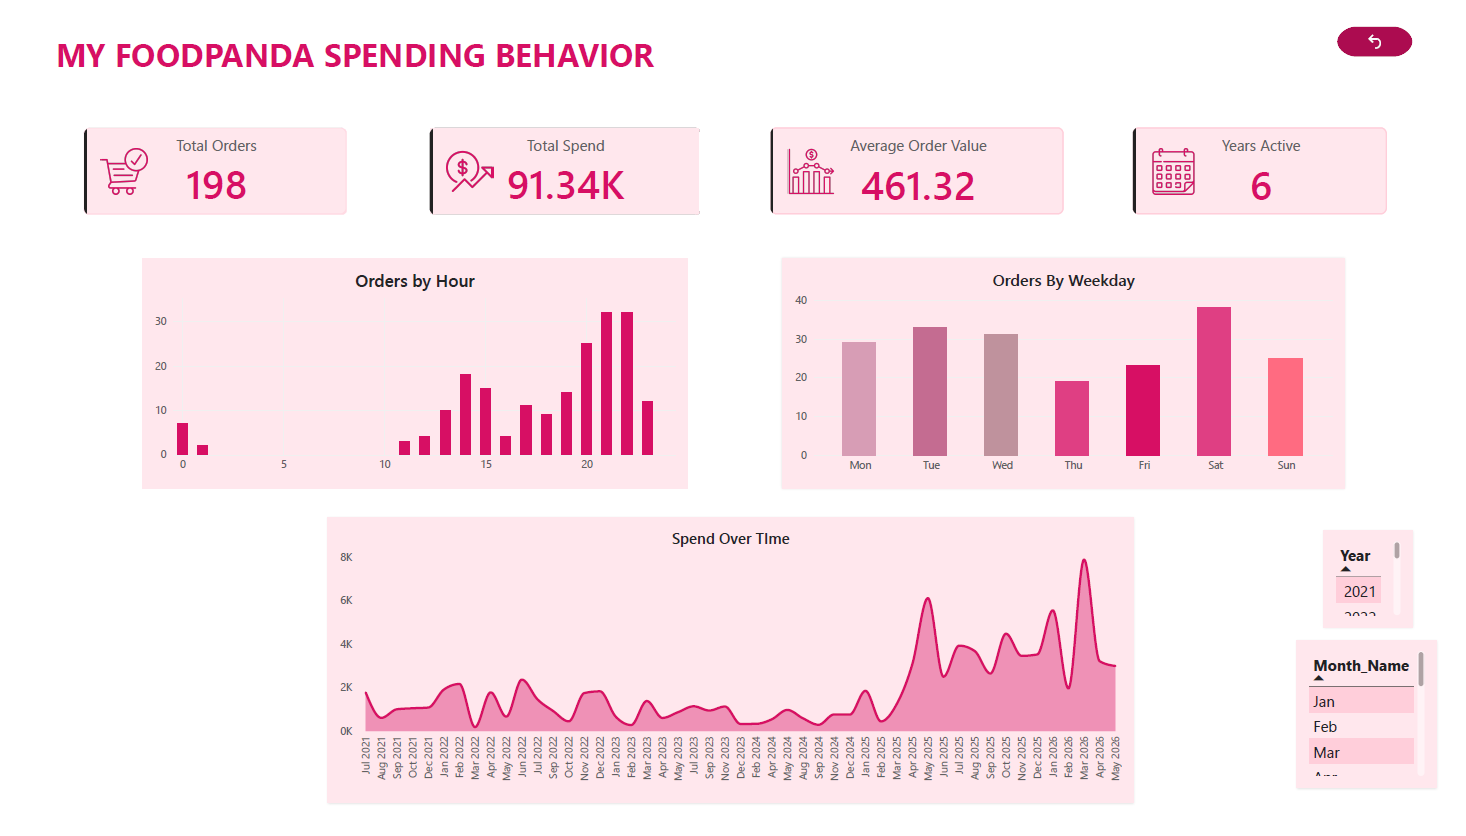

Layout of this report page (visuals, bound fields, positions):
{"tool":"powerbi","page":{"name":"Overview & Time","canvas":[1920,1080],"ordinal":0},"visuals":[{"type":"textbox","box":[27.5,30,862.5,65],"z":0},{"type":"cardVisual","fields":{"Data":["'Measures'.Total Orders"]},"box":[98,156,350,116],"z":1000},{"type":"cardVisual","fields":{"Data":["'Measures'.Total Spend"]},"box":[558,156,360,116],"z":2000},{"type":"cardVisual","fields":{"Data":["'Measures'.Average Order Value"]},"box":[1012,156,390,116],"z":3000},{"type":"cardVisual","fields":{"Data":["'Measures'.Years Active"]},"box":[1494,156,338,116],"z":4000},{"type":"lineChart","title":"Spend Over TIme","fields":{"Category":["DateTable.MonthYear"],"Y":["'Measures'.Total Spend"]},"box":[422.5,675,1072.5,380],"z":5000},{"type":"clusteredColumnChart","title":"Orders By Weekday","fields":{"Category":["DateTable.Weekday"],"Y":["'Measures'.Total Orders"]},"box":[1028,330,748,306],"z":6000},{"type":"clusteredColumnChart","title":"Orders by Hour","fields":{"Category":["foodpanda_orders.Hour"],"Y":["'Measures'.Total Orders"]},"box":[176,330,726,306],"z":7000},{"type":"tableEx","fields":{"Values":["DateTable.Date.Variation.Date Hierarchy.Year"]},"box":[1747.5,693.2,118,128],"z":8000},{"type":"tableEx","fields":{"Values":["DateTable.Month_Name"]},"box":[1711.5,839.2,186,196],"z":9000},{"type":"actionButton","box":[1766,22,100,40],"z":10001},{"type":"image","box":[98,184,108,62],"z":10002},{"type":"image","box":[558,184,108,62],"z":10003},{"type":"image","box":[1012,184,108,62],"z":10004},{"type":"image","box":[1494,184,108,62],"z":10005}]}

Visuals, with their boxes in screenshot pixels (x1, y1, x2, y2), scaled from the page's 1920x1080 canvas onto the 1466x836 screenshot:
textbox: pyautogui.locateOnScreen(21, 23, 680, 74)
cardVisual - 'Measures'.Total Orders: pyautogui.locateOnScreen(75, 121, 342, 211)
cardVisual - 'Measures'.Total Spend: pyautogui.locateOnScreen(426, 121, 701, 211)
cardVisual - 'Measures'.Average Order Value: pyautogui.locateOnScreen(773, 121, 1070, 211)
cardVisual - 'Measures'.Years Active: pyautogui.locateOnScreen(1141, 121, 1399, 211)
"Spend Over TIme" lineChart: pyautogui.locateOnScreen(323, 522, 1141, 817)
"Orders By Weekday" clusteredColumnChart: pyautogui.locateOnScreen(785, 255, 1356, 492)
"Orders by Hour" clusteredColumnChart: pyautogui.locateOnScreen(134, 255, 689, 492)
tableEx - DateTable.Date.Variation.Date Hierarchy.Year: pyautogui.locateOnScreen(1334, 537, 1424, 636)
tableEx - DateTable.Month_Name: pyautogui.locateOnScreen(1307, 650, 1449, 801)
actionButton: pyautogui.locateOnScreen(1348, 17, 1425, 48)
image: pyautogui.locateOnScreen(75, 142, 157, 190)
image: pyautogui.locateOnScreen(426, 142, 509, 190)
image: pyautogui.locateOnScreen(773, 142, 855, 190)
image: pyautogui.locateOnScreen(1141, 142, 1223, 190)
